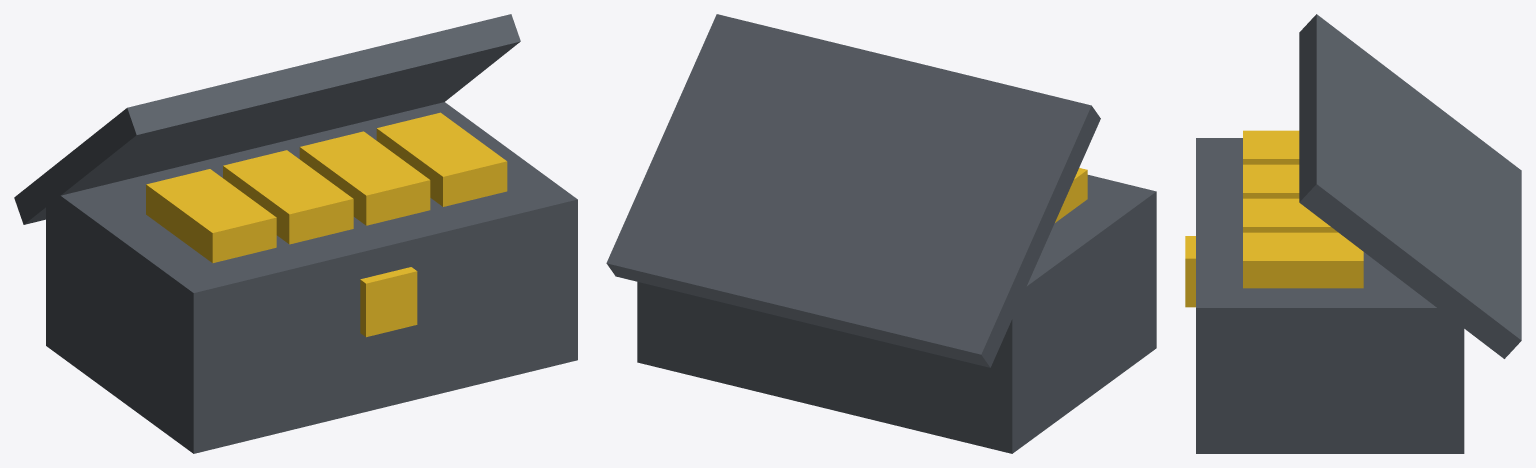
Rendered from gold_crown_box.glb.
3 renders of one model, left to right at view 1: azimuth 30°, elevation 25°; view 2: azimuth 150°, elevation 25°; view 3: azimuth 270°, elevation 25°, orthographic. The views are drawn at different scales.
Visible parts, largest first — view 1: box_box_steel, lid_box_steel, ingots_ingot_gold, lock_ingot_gold; view 2: lid_box_steel, box_box_steel, ingots_ingot_gold; view 3: box_box_steel, lid_box_steel, ingots_ingot_gold, lock_ingot_gold.
Part boxes in pixels (x1,y1,x2,y2): box_box_steel: (46,102,577,453); lid_box_steel: (14,14,520,224); ingots_ingot_gold: (146,112,507,263); lock_ingot_gold: (360,267,417,337); lid_box_steel: (606,14,1100,367); box_box_steel: (637,175,1156,453); ingots_ingot_gold: (1055,168,1087,222); box_box_steel: (1196,138,1464,453); lid_box_steel: (1299,14,1521,358); ingots_ingot_gold: (1243,130,1363,288); lock_ingot_gold: (1185,236,1195,307).
Size of the model in its own units: 0.3 by 0.2221 by 0.2509.
